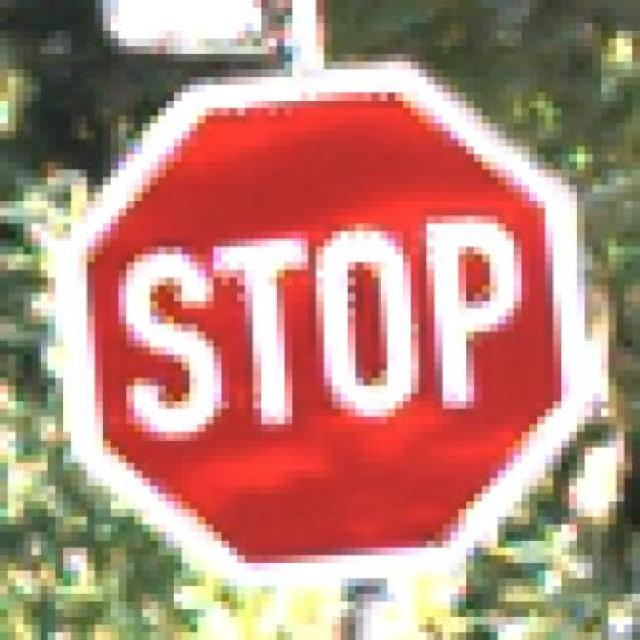Stop_Sign: (31, 61, 608, 602)
